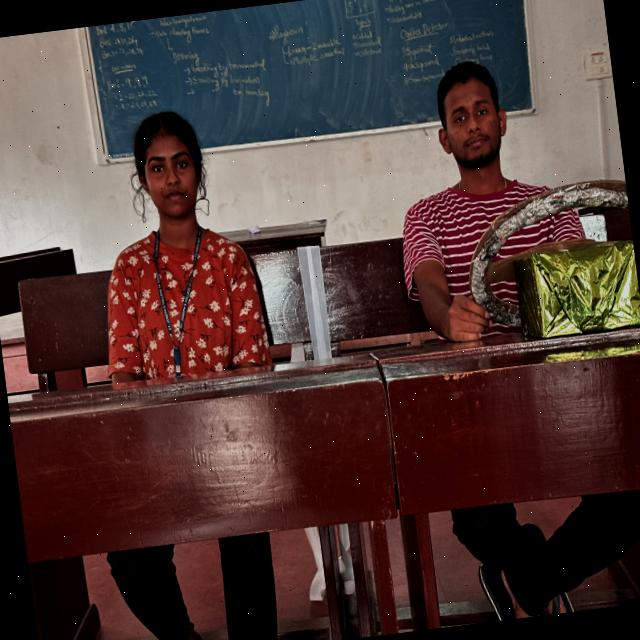no-seatbelt: (398, 167, 594, 333), (96, 222, 275, 384)
